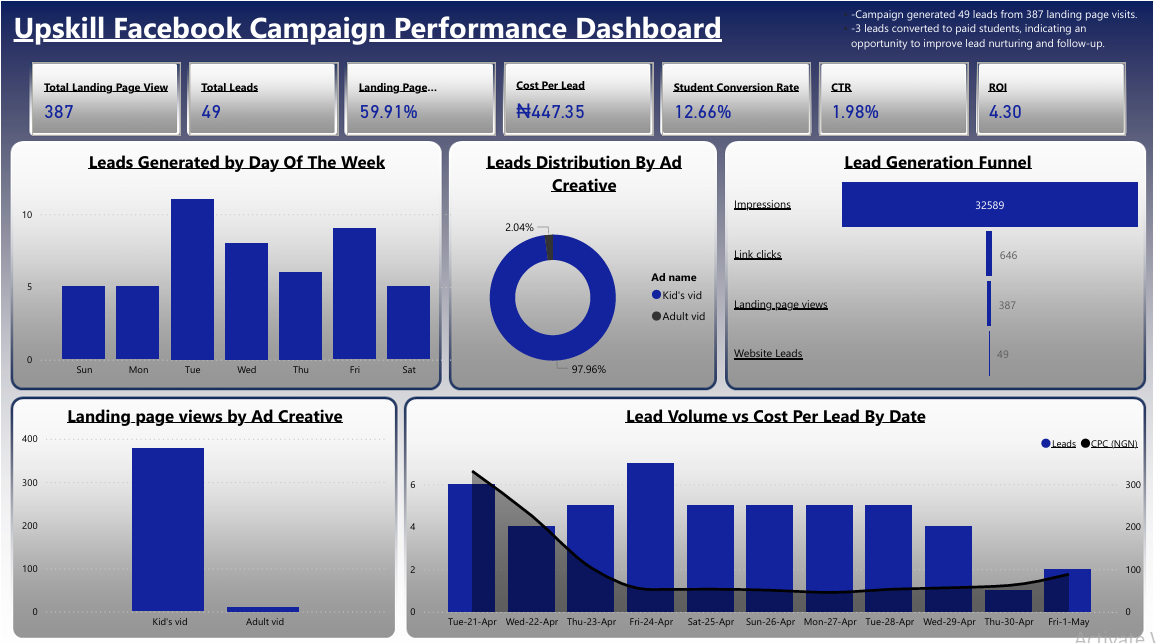

What the dashboard file says about the page in this screenshot:
{"tool":"powerbi","page":{"name":"Page 1","canvas":[1280,720],"ordinal":0},"visuals":[{"type":"cardVisual","fields":{"Data":["Worksheet.Total Landing Page View","Worksheet.Total Leads","Worksheet.Landing Page Conversion Rate","Worksheet.Avg Cost Per Lead","Worksheet.Student Conversion Rate","Worksheet.CTR","Worksheet.ROI"]},"box":[28.6,62.9,1225.1,91.4],"z":0},{"type":"lineClusteredColumnComboChart","title":"Lead Volume vs Cost Per Lead  By Date","fields":{"Y":["Worksheet.Total Leads"],"Y2":["Sum(Worksheet.Cost per landing page view (NGN))"],"Category":["Worksheet.Merged date"]},"box":[449.1,446.9,822.9,260.6],"z":1000},{"type":"clusteredColumnChart","title":"Leads  Generated by Day Of The Week","fields":{"Category":["Worksheet.Day Name"],"Y":["Worksheet.Total Leads"]},"box":[17.1,164.6,489.1,262.9],"z":2000},{"type":"donutChart","title":"Leads Distribution By Ad Creative","fields":{"Category":["Worksheet.Ad name"],"Y":["Worksheet.Total Leads"]},"box":[498.3,164.6,298.3,278.9],"z":3000},{"type":"funnel","title":"Lead Generation Funnel","fields":{"Y":["Sum(Worksheet.Impressions)","Sum(Worksheet.Link clicks)","Sum(Worksheet.Landing page views)","Sum(Worksheet.Website Leads)"]},"box":[809.1,164.6,462.9,262.9],"z":4000},{"type":"clusteredColumnChart","title":"Landing page views by Ad Creative","fields":{"Category":["Worksheet.Ad name"],"Y":["Sum(Worksheet.Landing page views)"]},"box":[17.1,446.9,418.3,260.6],"z":5000},{"type":"textbox","box":[921.1,0,350.9,58.3],"z":6000},{"type":"textbox","box":[8,0,899.4,62.9],"z":6001}]}

Visuals, with their boxes in screenshot pixels (x1, y1, x2, y2), scaled from the page's 1280x720 canvas onto the 1156x643 screenshot:
cardVisual - Worksheet.Total Landing Page View x Worksheet.Total Leads: Rect(26, 56, 1132, 138)
"Lead Volume vs Cost Per Lead  By Date" lineClusteredColumnComboChart: Rect(406, 399, 1149, 632)
"Leads  Generated by Day Of The Week" clusteredColumnChart: Rect(15, 147, 457, 382)
"Leads Distribution By Ad Creative" donutChart: Rect(450, 147, 719, 396)
"Lead Generation Funnel" funnel: Rect(731, 147, 1149, 382)
"Landing page views by Ad Creative" clusteredColumnChart: Rect(15, 399, 393, 632)
textbox: Rect(832, 0, 1149, 52)
textbox: Rect(7, 0, 819, 56)
